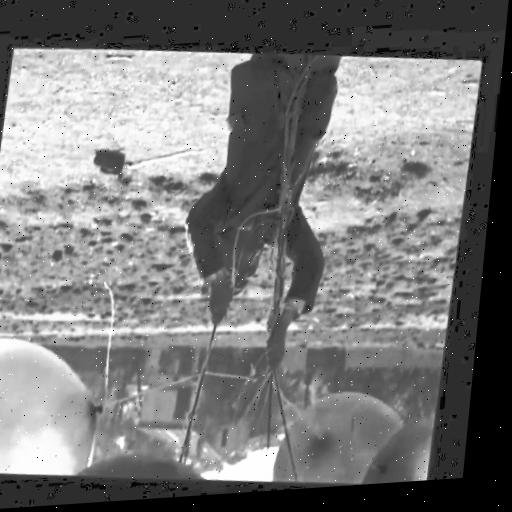balloon: (0, 327, 112, 482), (274, 372, 412, 485), (79, 439, 214, 485), (369, 398, 439, 482)
